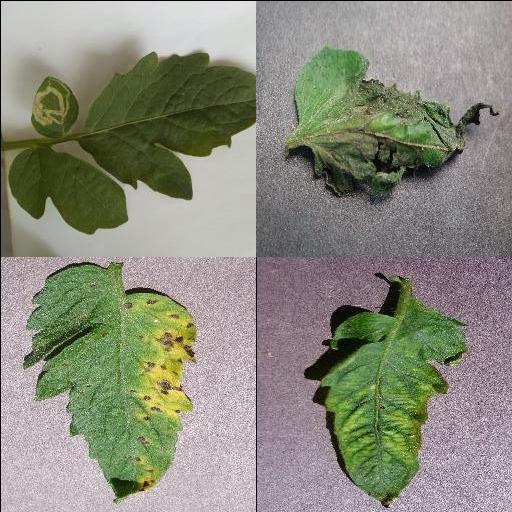Healthy: (76, 49, 256, 200), (7, 144, 127, 234)
Late Blight: (292, 45, 500, 203)
Leaf Miner: (30, 74, 80, 136)
Mosaic Virus: (318, 296, 470, 508)
Septoria: (22, 260, 197, 502)
